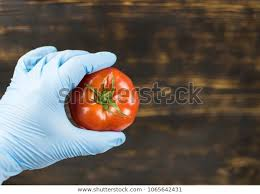tomato: (68, 67, 140, 132)
